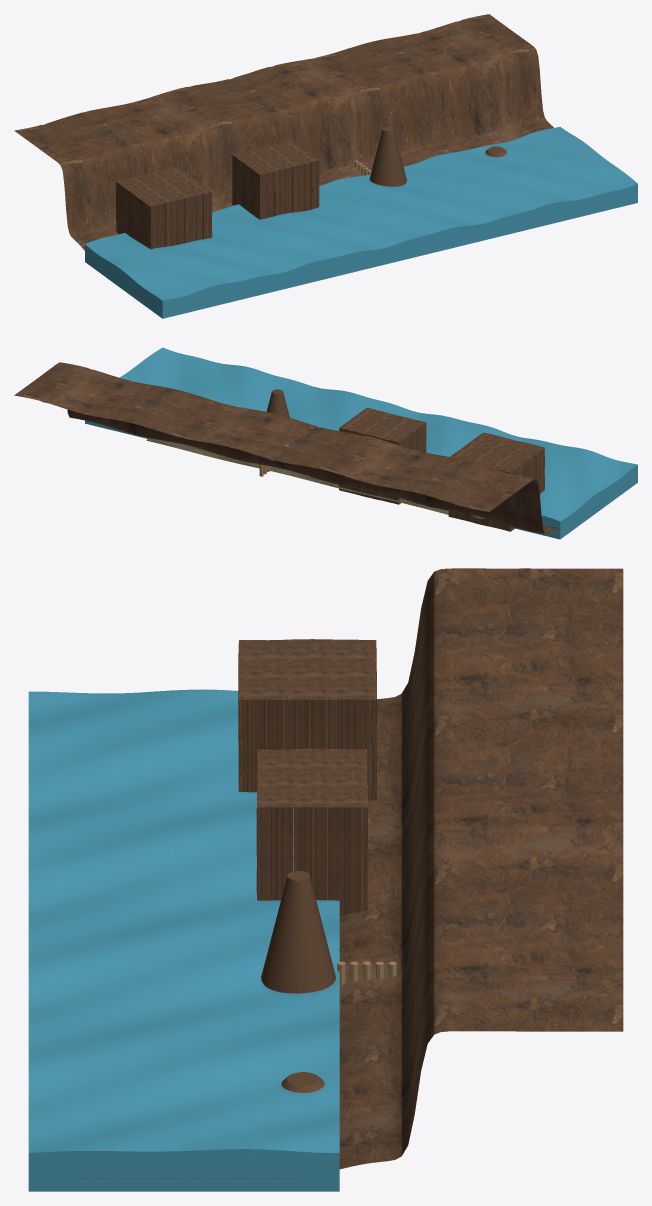
Rendered from coasts.glb.
The picture shows the model from 3 angles, top to bottom: view 1: azimuth 30°, elevation 25°; view 2: azimuth 150°, elevation 25°; view 3: azimuth 270°, elevation 25°; orthographic projection. The views are drawn at different scales.
Parts seen in each view (by area): view 1: Coast_Cliff, Coast_Water, Coast_Cave, Coast_Arch, Coast_Stack; view 2: Coast_Cliff, Coast_Water, Coast_Cave, Coast_Arch, Coast_Berm, Coast_Stack; view 3: Coast_Water, Coast_Cliff, Coast_Cave, Coast_Arch, Coast_Stack.
Part boxes in pixels (<box>): Coast_Cliff: <box>14,14,553,250</box>; Coast_Water: <box>85,127,637,318</box>; Coast_Cave: <box>116,166,212,249</box>; Coast_Arch: <box>232,140,319,219</box>; Coast_Stack: <box>369,126,406,186</box>; Coast_Cliff: <box>14,362,559,534</box>; Coast_Water: <box>85,347,637,539</box>; Coast_Cave: <box>448,432,544,531</box>; Coast_Arch: <box>339,407,426,504</box>; Coast_Berm: <box>146,438,448,514</box>; Coast_Stack: <box>266,389,289,417</box>; Coast_Water: <box>28,689,339,1191</box>; Coast_Cliff: <box>339,568,623,1169</box>; Coast_Cave: <box>238,639,376,800</box>; Coast_Arch: <box>256,748,367,915</box>; Coast_Stack: <box>261,870,335,993</box>.
Bounding box in the file's own units: 12 × 1.96 × 6.5.
4 materials, 2 textured.
